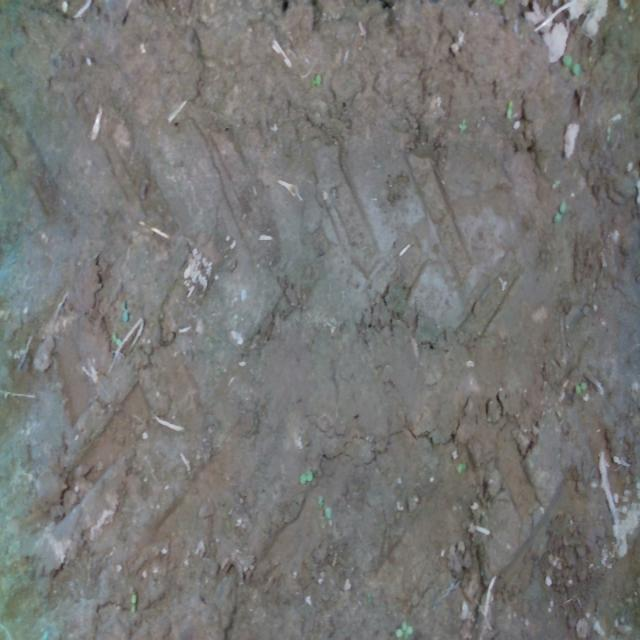weed: (561, 52, 581, 76), (395, 620, 413, 638), (552, 200, 566, 223), (298, 468, 312, 486), (120, 297, 128, 323), (129, 591, 137, 614), (574, 379, 586, 394), (505, 98, 513, 118), (458, 116, 466, 134), (605, 125, 611, 143), (551, 178, 560, 188)
